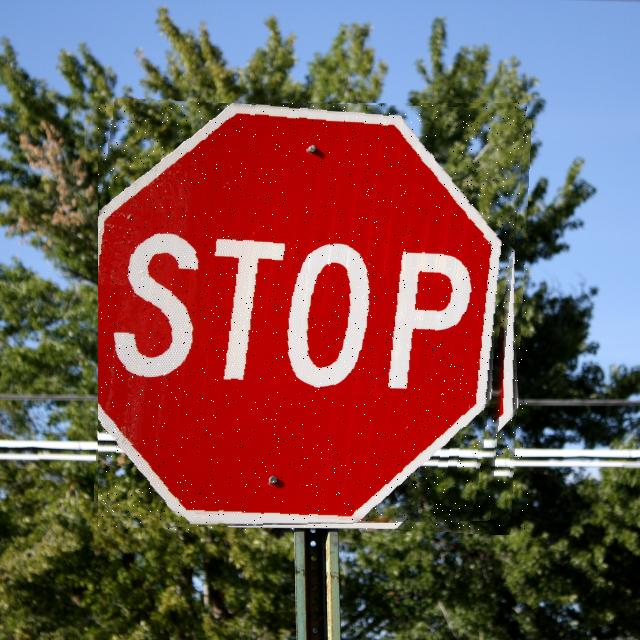stop: (98, 103, 528, 530)
